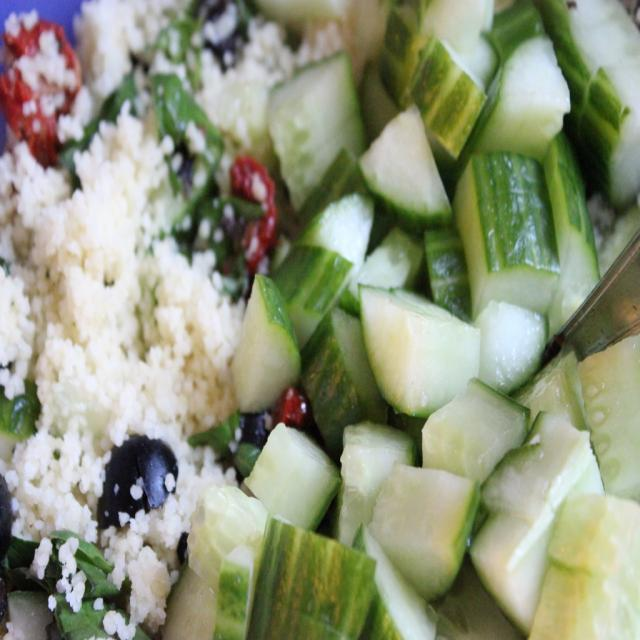Zucchini: (139, 0, 639, 639), (151, 0, 640, 639), (368, 472, 485, 605), (226, 267, 306, 415)
